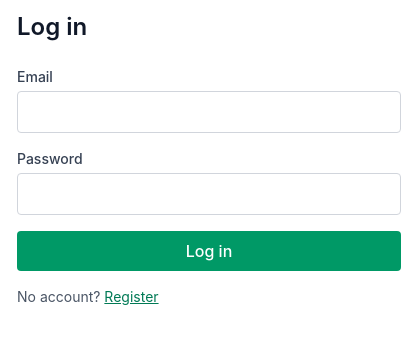
Test: LoginPage › shows the error message on invalid credentials
This screenshot has width=419, height=358.
Type "user@example.com" into the field labelled "Email". click: point(209, 112)
box: [17, 91, 401, 133]
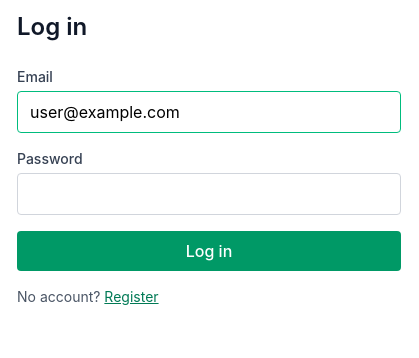
Type "wrong-password" into the password field labelled "Password". click: point(209, 194)
box: [17, 173, 401, 215]
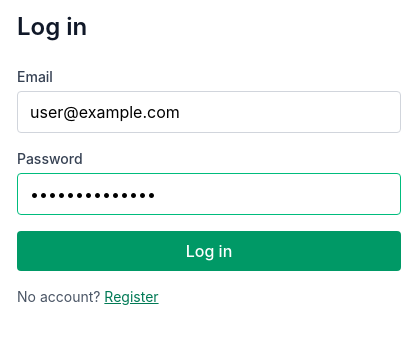
Click the button "Log in". click: point(209, 251)
box: [17, 231, 401, 271]
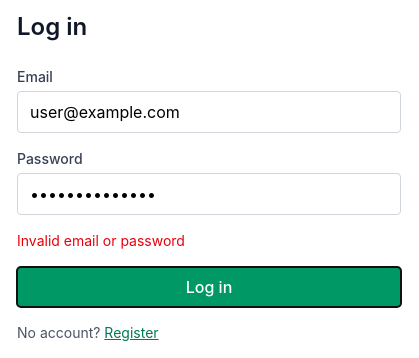
Check: the text "Invalid email or password" is shown, box [17, 232, 185, 249]
